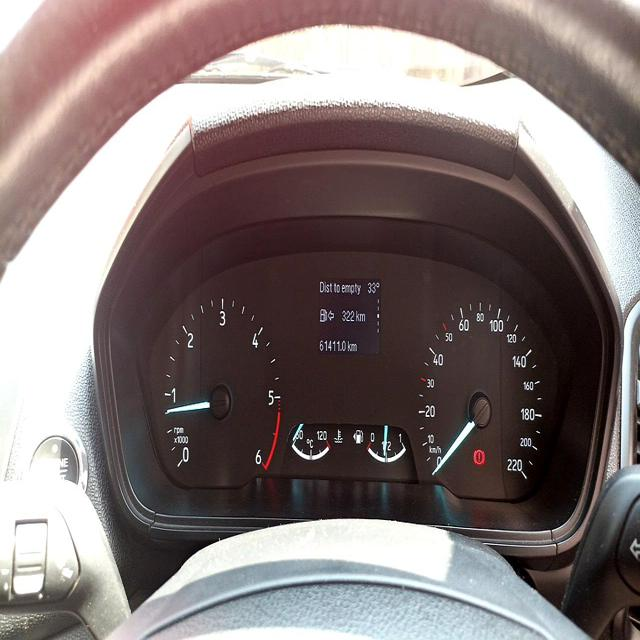odometer: (316, 334, 358, 357)
